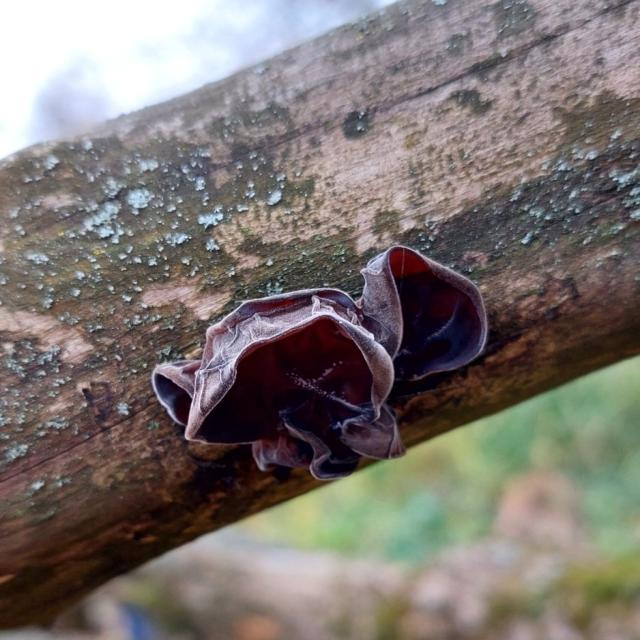Matang: (139, 244, 503, 486)
